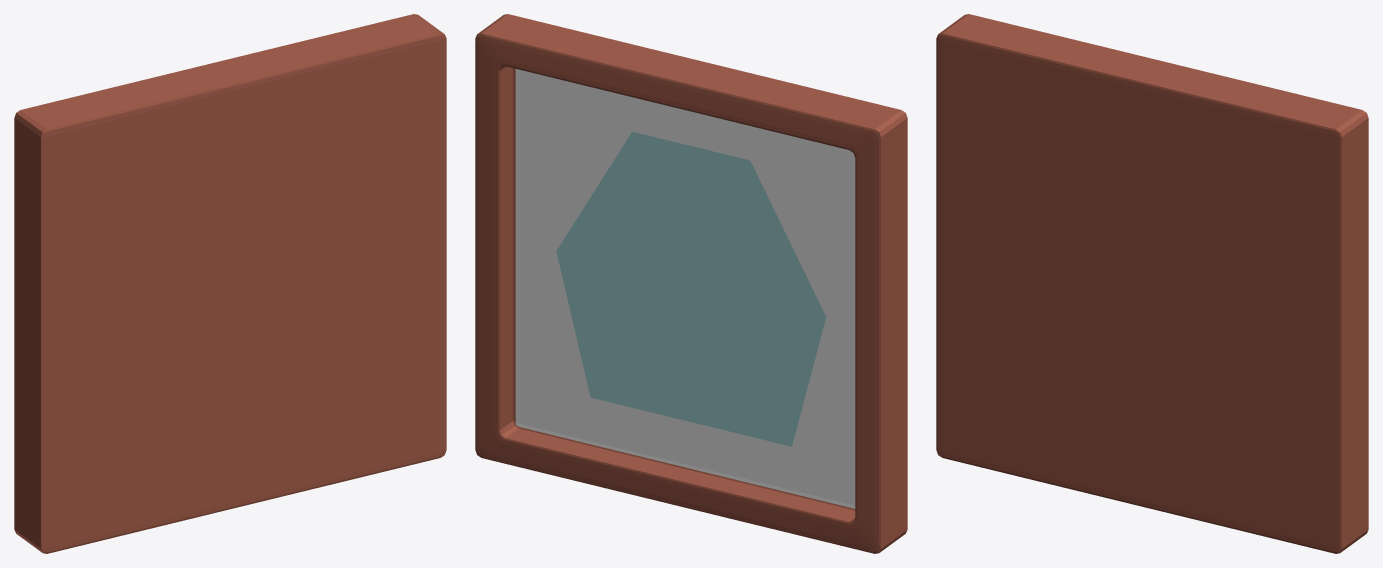
Rendered from tablo9.fbx.
3 views of the same model, side by side, from view 1: azimuth 30°, elevation 25°; view 2: azimuth 150°, elevation 25°; view 3: azimuth 330°, elevation 25° (orthographic).
Visible parts, largest first — view 1: Cube.022; view 2: Cube.022; view 3: Cube.022.
Boxes of the visible parts, x1=… form: Cube.022: x1=14, y1=14, x2=446, y2=553; Cube.022: x1=475, y1=14, x2=907, y2=553; Cube.022: x1=936, y1=14, x2=1368, y2=553.
Bounding box in the file's own units: 702 × 702 × 84.01.
